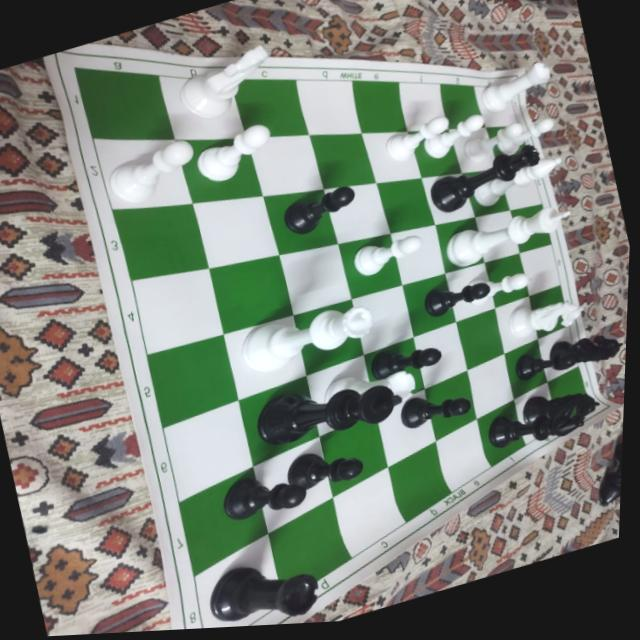board: (52, 50, 618, 629)
square: (178, 466, 267, 576), (162, 400, 252, 502), (267, 497, 351, 601), (145, 334, 237, 427), (193, 533, 283, 628), (129, 268, 223, 355), (252, 436, 332, 533), (111, 203, 208, 281), (237, 375, 318, 467), (73, 66, 173, 139), (223, 314, 305, 400), (92, 139, 191, 210), (331, 467, 404, 557), (209, 255, 292, 334), (190, 196, 278, 269), (318, 411, 387, 497), (305, 354, 375, 436), (173, 138, 261, 203), (157, 74, 245, 139), (292, 299, 363, 375), (278, 243, 350, 315), (388, 441, 450, 522), (262, 189, 337, 255), (374, 389, 434, 467), (229, 79, 308, 138), (246, 135, 322, 196), (363, 337, 424, 411), (350, 285, 413, 354), (336, 233, 401, 299), (434, 419, 490, 492), (323, 183, 389, 243), (308, 133, 374, 189), (423, 370, 475, 441), (412, 322, 466, 389), (295, 80, 360, 135), (401, 273, 455, 337), (389, 225, 444, 285), (375, 178, 434, 233), (476, 400, 524, 466), (466, 353, 513, 419), (360, 131, 419, 183), (455, 308, 504, 370), (444, 262, 494, 321), (351, 80, 406, 133), (434, 217, 483, 274), (420, 173, 474, 224), (513, 382, 557, 444), (503, 339, 546, 400), (406, 129, 460, 177), (547, 366, 589, 426), (494, 296, 537, 354), (484, 252, 528, 308), (460, 168, 509, 217), (398, 82, 447, 131), (473, 210, 518, 262), (536, 325, 577, 382), (447, 127, 496, 172), (518, 244, 559, 296), (528, 285, 568, 338), (509, 203, 551, 253), (439, 84, 484, 129), (496, 166, 541, 210), (484, 125, 528, 169), (472, 86, 517, 127)
